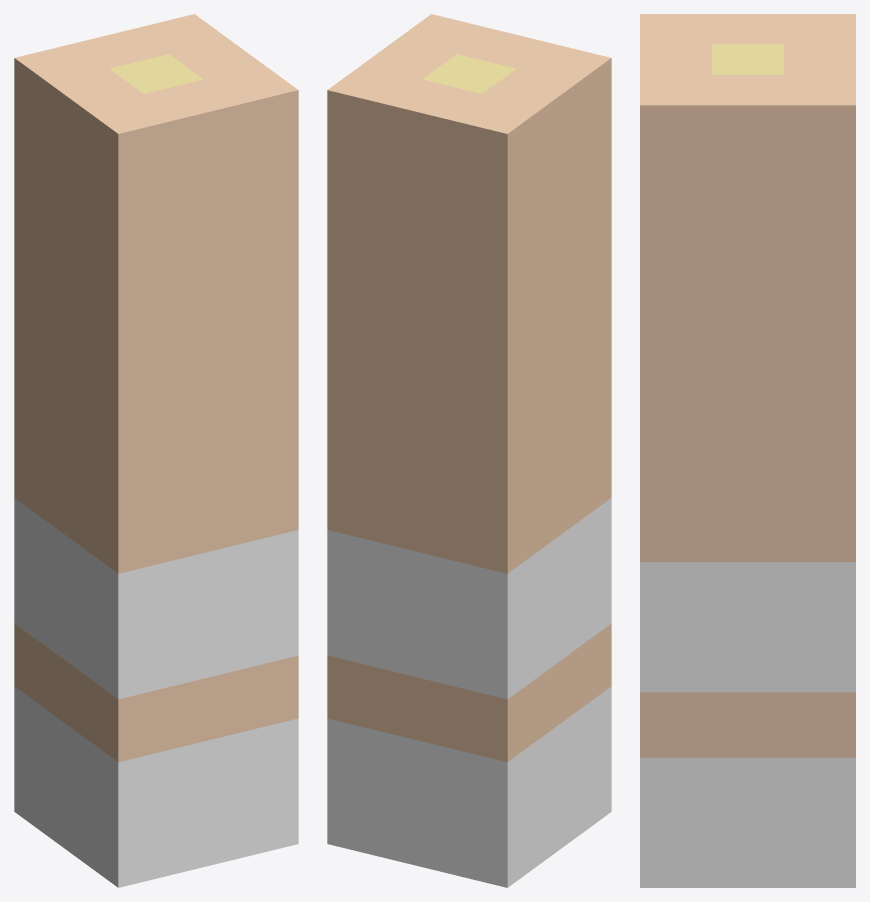
File: Leg.obj
3 views of the same model, side by side, from view 1: azimuth 30°, elevation 25°; view 2: azimuth 150°, elevation 25°; view 3: azimuth 270°, elevation 25° (orthographic). The views are drawn at different scales.
Size of the model in its own units: 0.3 by 1.2 by 0.3.
1 material, 1 textured.
